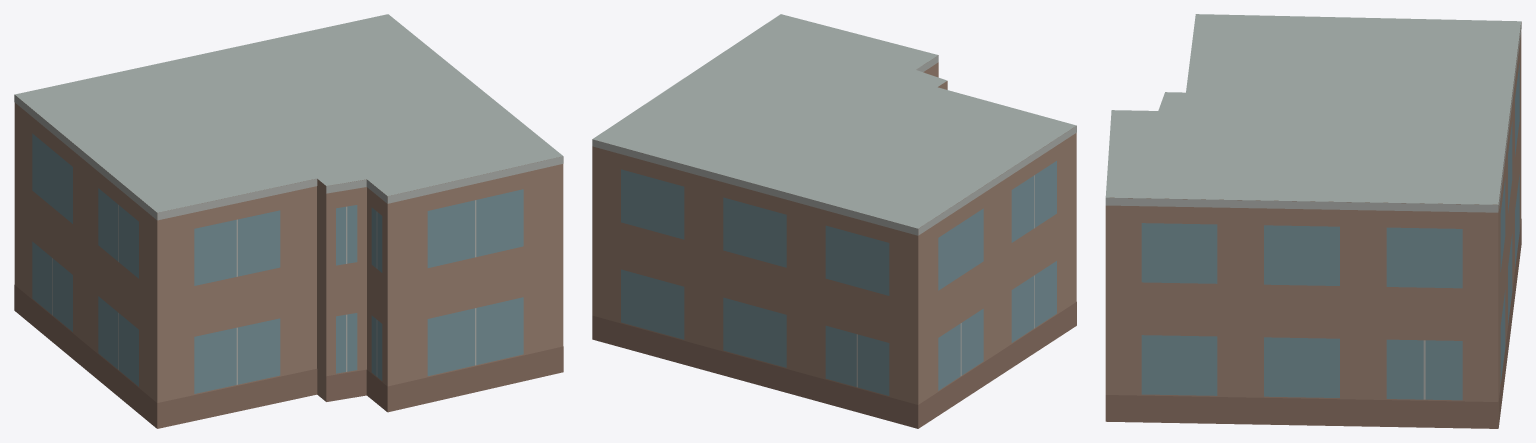
The model's file is survey-upis-32629758.glb.
3 views of the same model, side by side, from view 1: azimuth 30°, elevation 25°; view 2: azimuth 150°, elevation 25°; view 3: azimuth 270°, elevation 25° (orthographic). The views are drawn at different scales.
Parts seen in each view (by area): view 1: survey-upis-32629758.tmp; view 2: survey-upis-32629758.tmp; view 3: survey-upis-32629758.tmp.
Boxes of the visible parts, x1=… form: survey-upis-32629758.tmp: x1=14, y1=14, x2=563, y2=428; survey-upis-32629758.tmp: x1=592, y1=14, x2=1076, y2=428; survey-upis-32629758.tmp: x1=1105, y1=14, x2=1521, y2=428.
Size of the model in its own units: 12.61 by 6.9 by 11.61.
